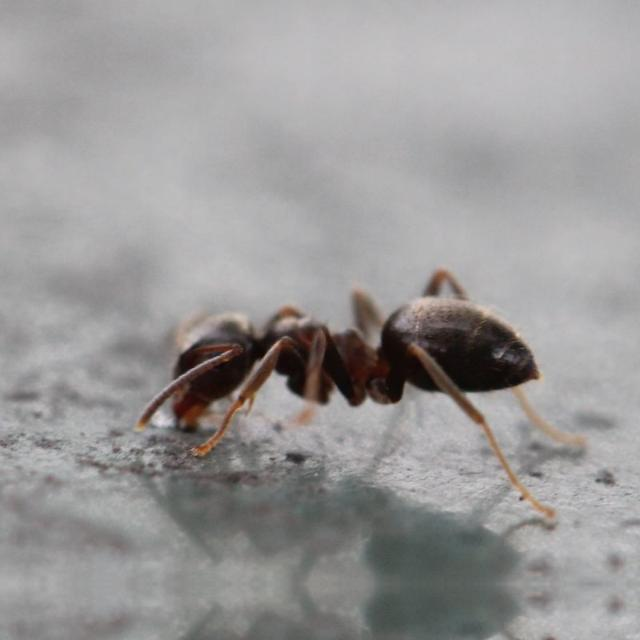Lasius: (152, 241, 520, 485)
